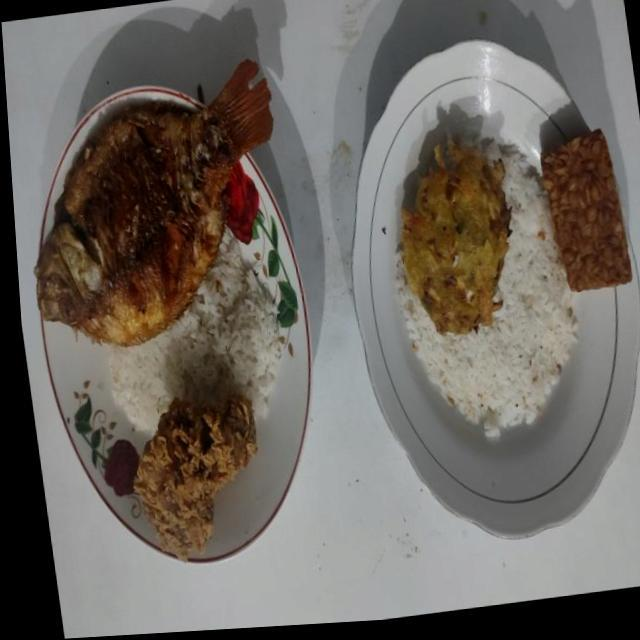ikan_mujair: (35, 59, 272, 346)
nasi_putih: (396, 150, 576, 436), (109, 229, 288, 428)
tempe_goreng: (540, 129, 632, 291)
